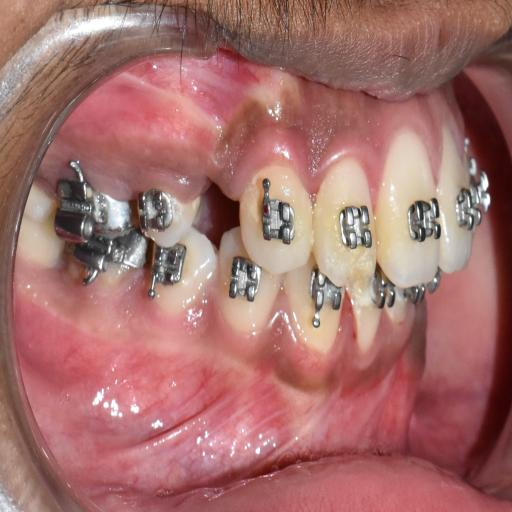correct_brace: (134, 159, 206, 246), (333, 194, 381, 266), (252, 184, 300, 254), (408, 191, 440, 243)
incorrect_brace: (312, 154, 377, 289), (128, 179, 178, 236)
